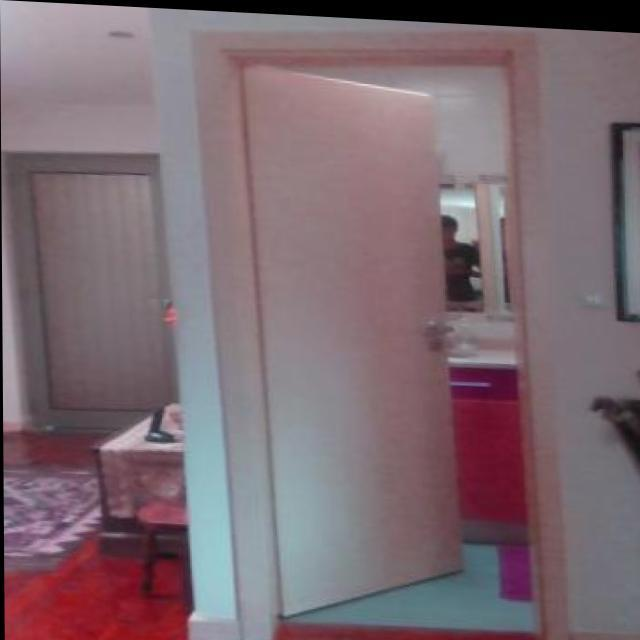door_handle: (421, 310, 459, 346)
